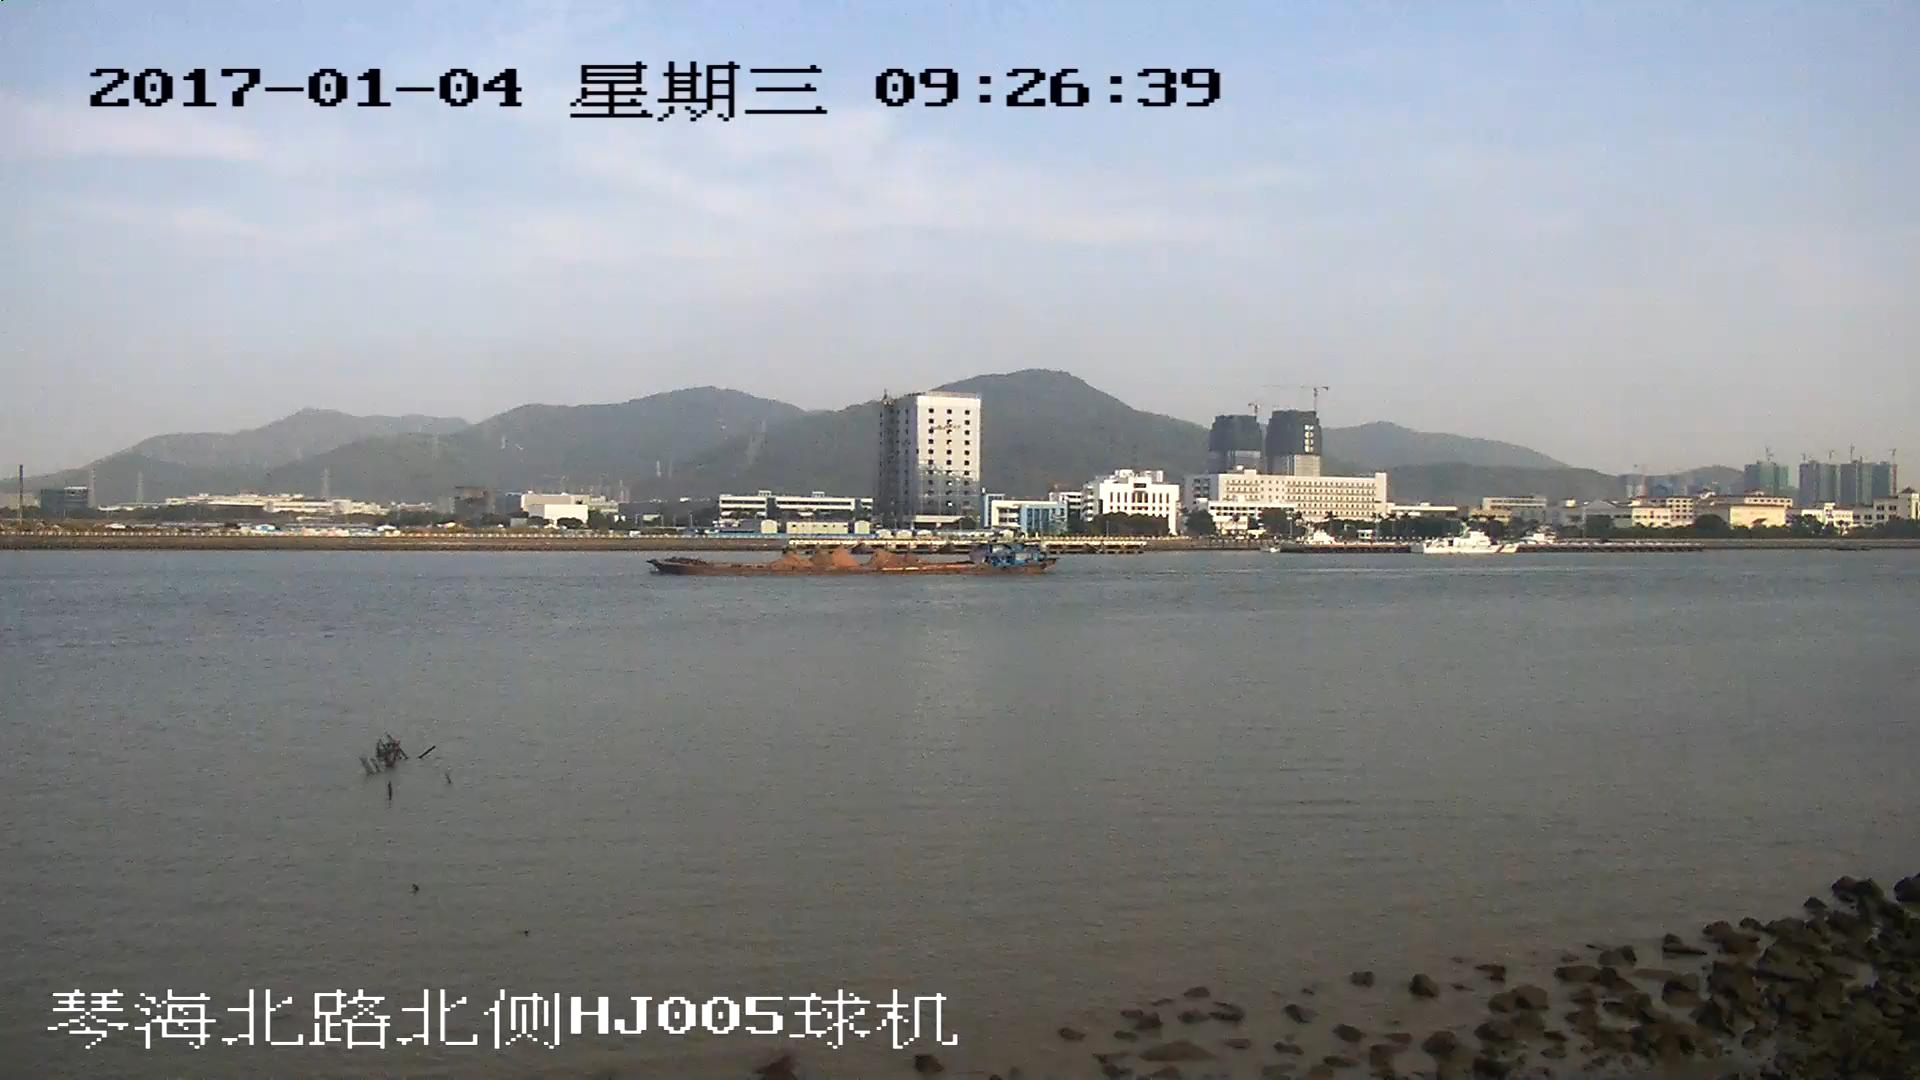ore carrier: (649, 532, 1055, 575)
